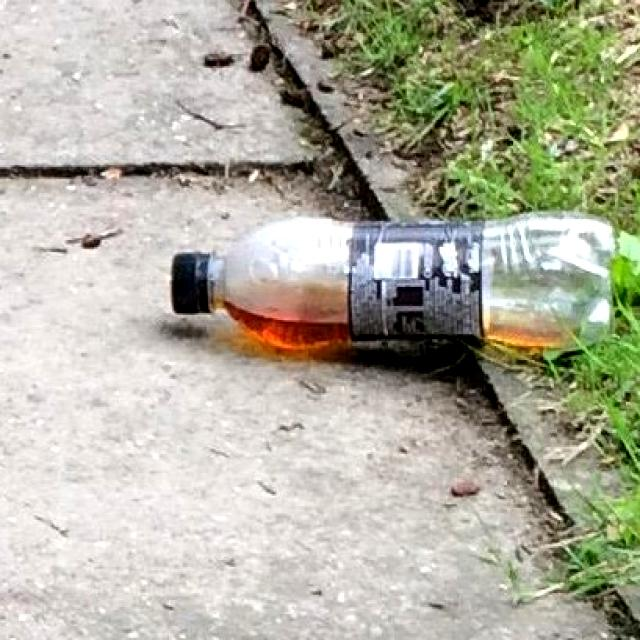Plastic: (166, 212, 619, 354)
